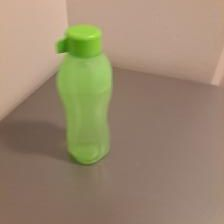bottle: (56, 23, 115, 167)
